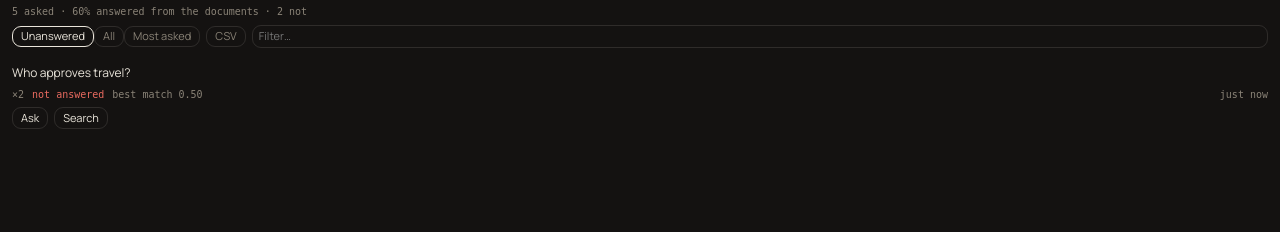
Test: UnansweredPanel › groups repeats, filters, and shows every question or the most asked
Expected: the text with test id "questions-summary" shows "5 asked · 60% answered", [12,6,307,17]
Expected: the number of list items with test id "unanswered-row" is 1, [0,54,1279,139]
Step 1. Click the button with test id "questions-view-repeated" → [162, 36], box [124,26,200,46]
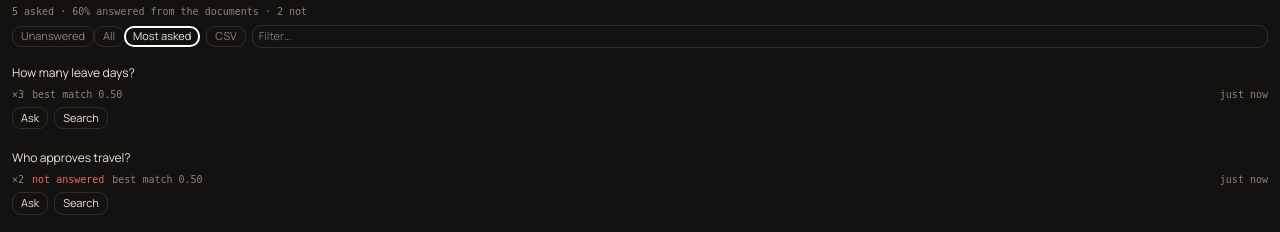
Now the list item with test id "unanswered-row" shows "How many leave days?", box [12,64,135,80]
Now the list item with test id "unanswered-row" shows "×3", box [0,54,1279,139]
Step 2. Click the button with test id "questions-view-all" → [109, 36], box [94,26,124,46]
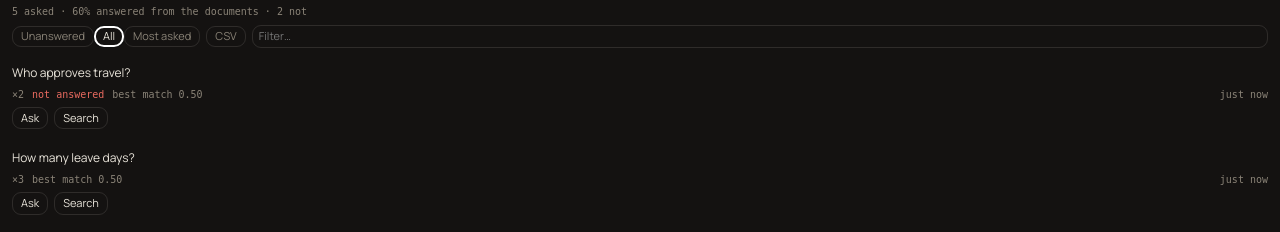
Step 3. Type "leave" into the search field with test id "questions-filter" → [760, 36], box [252,25,1268,48]
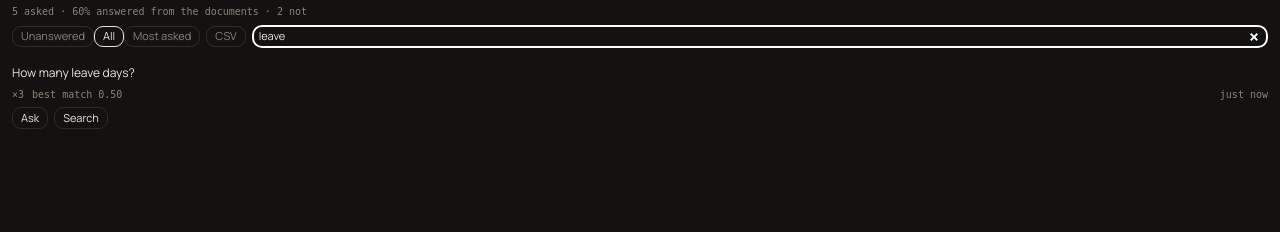
Now the number of list items with test id "unanswered-row" is 1, box [0,54,1279,139]
